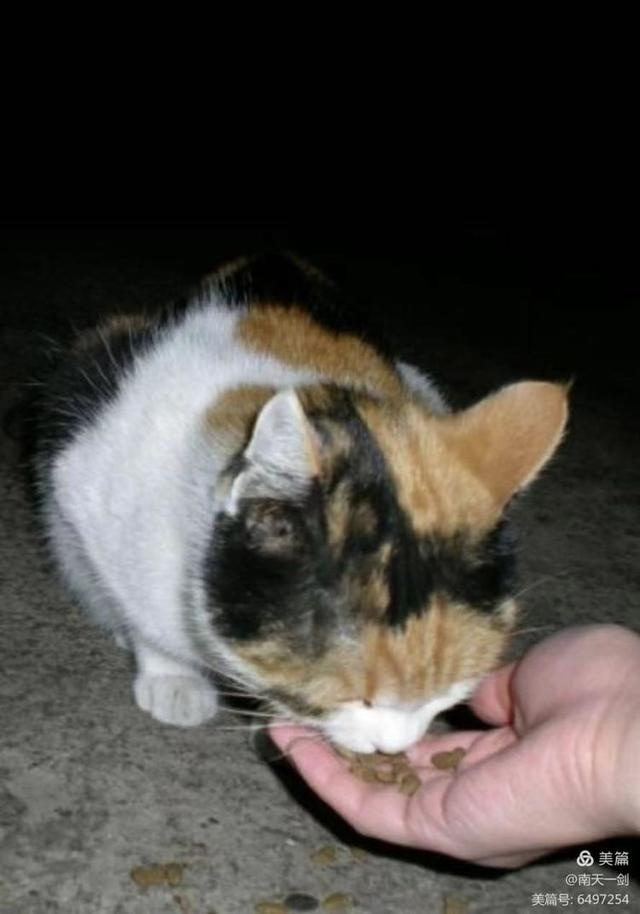cat: (2, 248, 570, 759)
